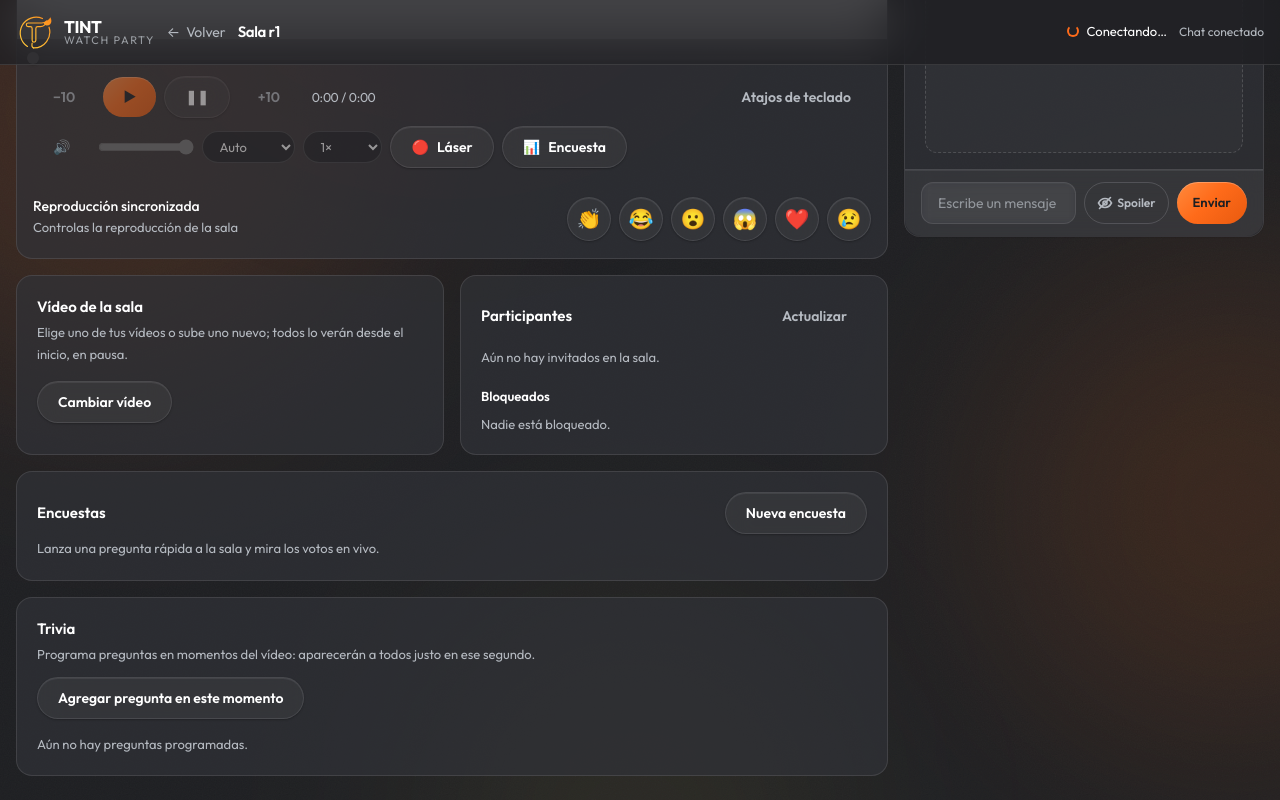
Test: WatchRoom — trivia › el host programa una pregunta en el momento actual del vídeo
The image size is (1280, 800).
(page scrolled)
What coordinates should you click on to do the following:
click the button "Agregar pregunta en este momento"
I would click on:
 (171, 698)
Its box is [37, 677, 304, 719].
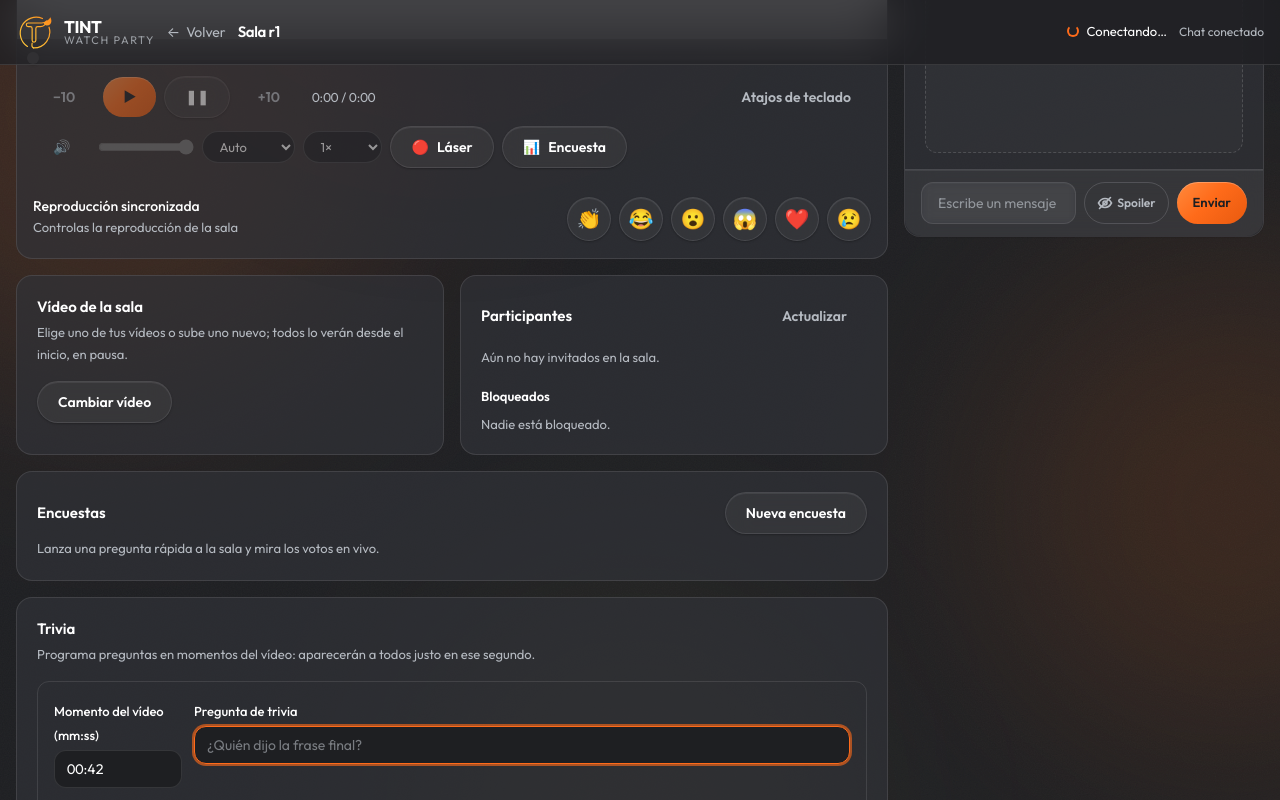
Now the field labelled "Momento del vídeo (mm:ss)" holds "00:42", box [54, 750, 182, 788]
